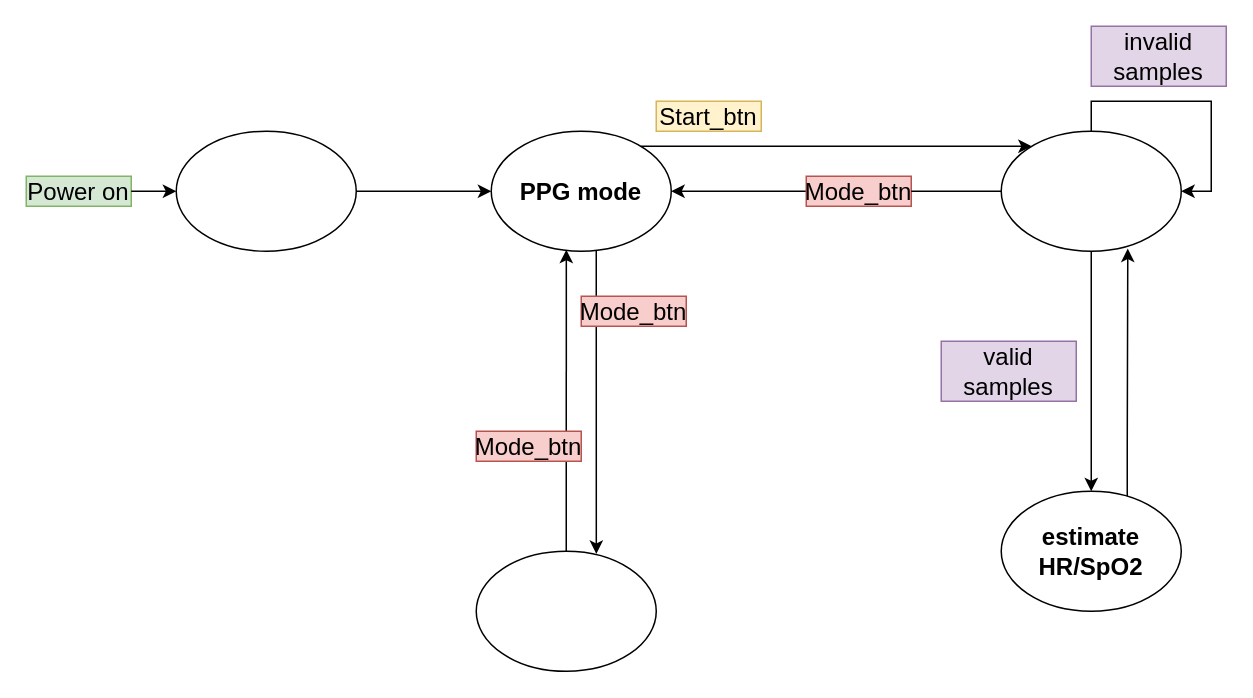
The diagram is 1253 pixels wide and 698 high, and some of its shapes have lost their labels. Here are the shapes that lost their labels. From the top down, the box of each, then its label:
(175, 130, 356, 251): Intro
(1000, 130, 1181, 251): store sample
(475, 550, 656, 671): ECG mode
